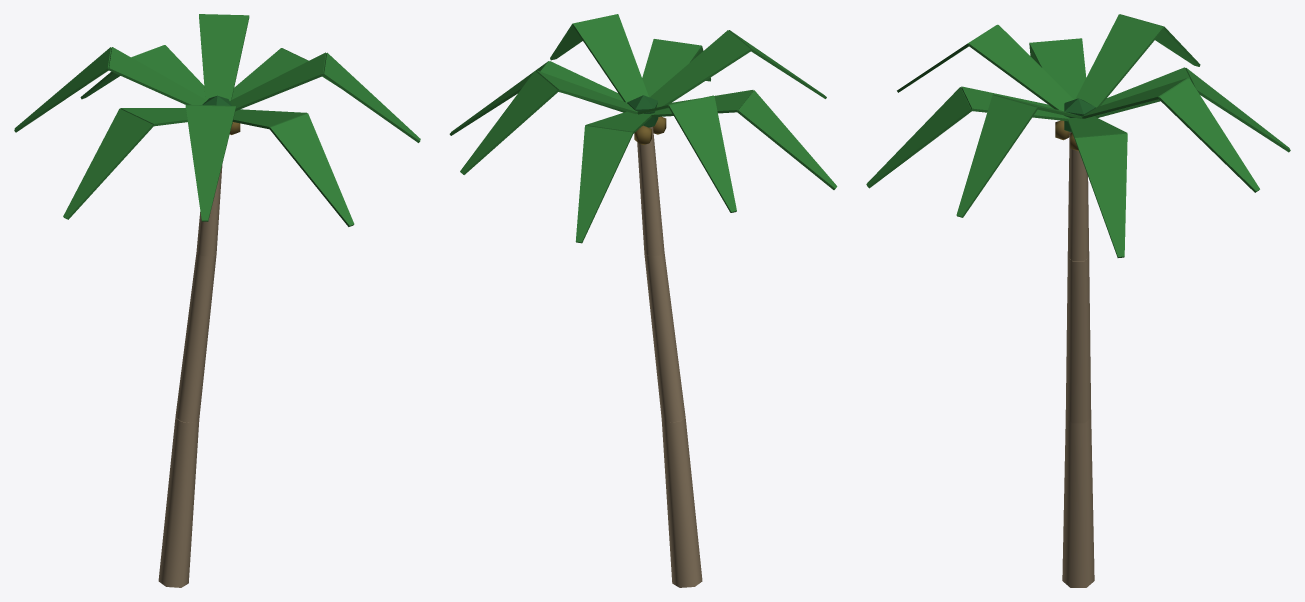
Rendered from pohon_kelapa.glb.
3 renders of one model, left to right at view 1: azimuth 30°, elevation 25°; view 2: azimuth 150°, elevation 25°; view 3: azimuth 270°, elevation 25°, orthographic. The views are drawn at different scales.
Parts seen in each view (by area): view 1: body; view 2: body; view 3: body.
Part boxes in pixels (x1,y1,x2,y2): body: [14, 14, 420, 587]; body: [449, 14, 837, 587]; body: [866, 14, 1290, 587].
Size of the model in its own units: 6.32 by 8.94 by 6.32.
Materials: 1 (1 with a texture image).
